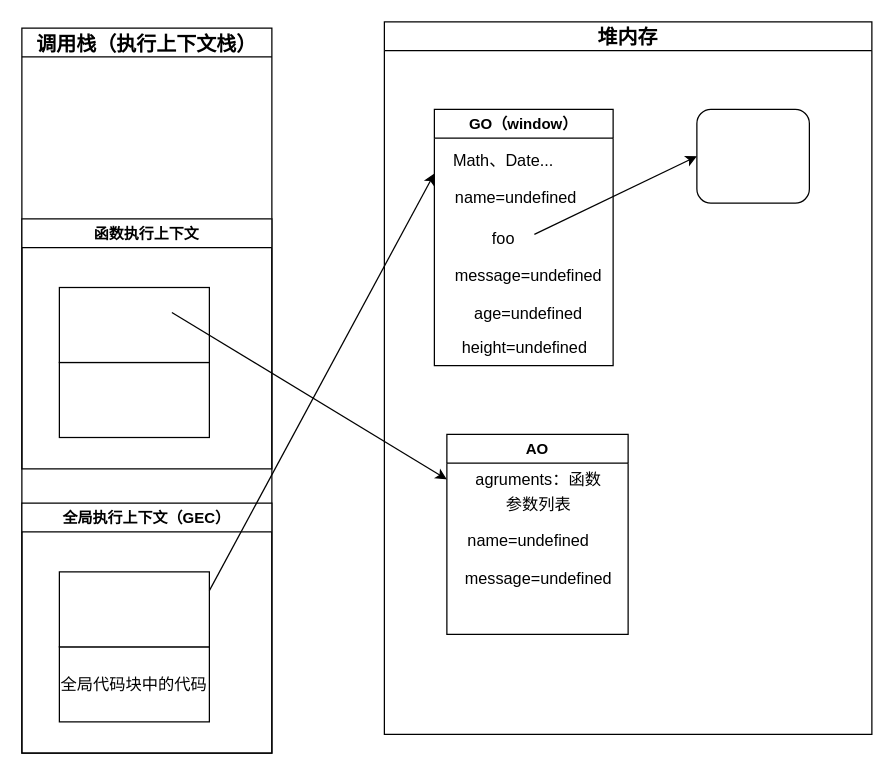
Image size: 894x775. Some labels were removed from this diagram. Here are the shapes that lost their labels. From the top down, the centre of each, then its label:
At (x=752, y=155): "{ 函数对象 }".
At (x=133, y=324): "VO：AO scope chain".
At (x=133, y=399): "函数代码块中的代码".
At (x=133, y=609): "VO：GO scope chain".
